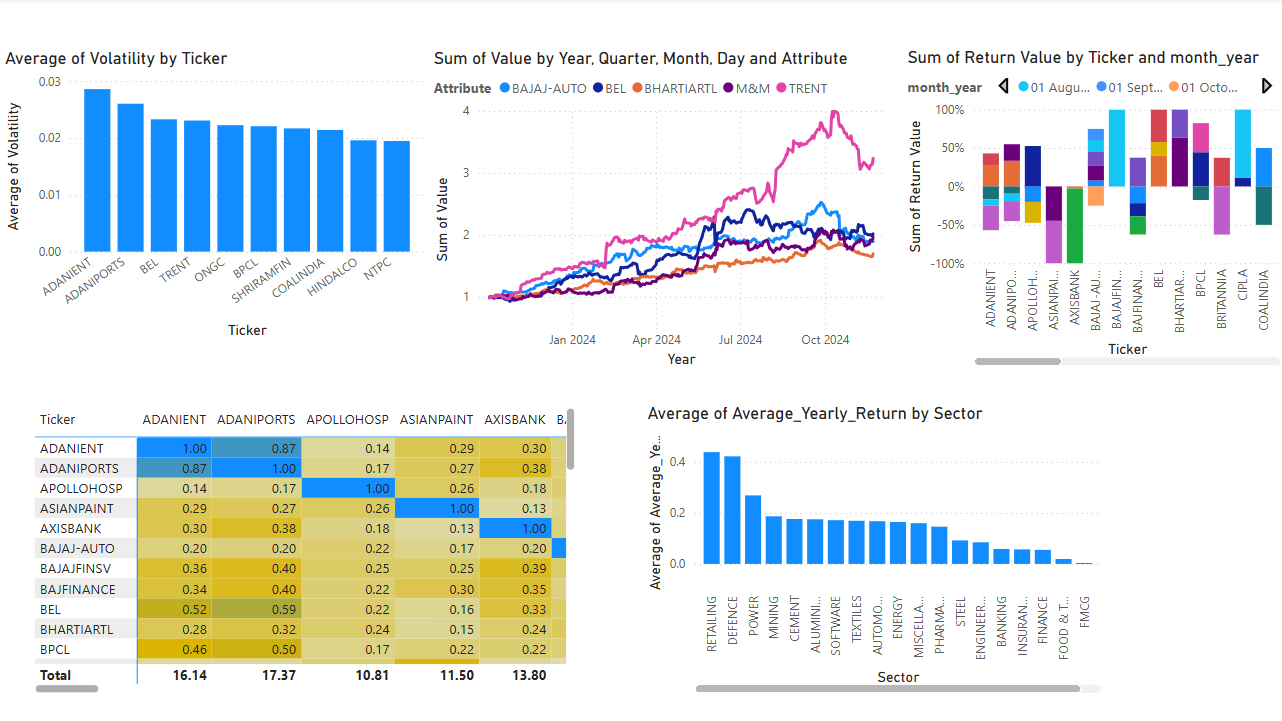

What the dashboard file says about the page in this screenshot:
{"tool":"powerbi","page":{"name":"Page 1","canvas":[1280,720],"ordinal":0},"visuals":[{"type":"lineChart","fields":{"Y":["Sum(top_5_stocks_cumulative.Value)"],"Category":["top_5_stocks_cumulative.date.Variation.Date Hierarchy.Year","top_5_stocks_cumulative.date.Variation.Date Hierarchy.Quarter","top_5_stocks_cumulative.date.Variation.Date Hierarchy.Month","top_5_stocks_cumulative.date.Variation.Date Hierarchy.Day"],"Series":["top_5_stocks_cumulative.Attribute"]},"box":[426.7,49.8,471.5,322.2],"z":0},{"type":"clusteredColumnChart","fields":{"Category":["Top_10_Volatile_Stocks.Ticker"],"Y":["Avg(Top_10_Volatile_Stocks.Volatility)"]},"box":[0,49.4,426.8,293.7],"z":1000},{"type":"clusteredColumnChart","fields":{"Category":["sector_average_yearly_returns.Sector"],"Y":["Avg(sector_average_yearly_returns.Average_Yearly_Return)"]},"box":[639.4,403,461.5,293.6],"z":3000},{"type":"pivotTable","fields":{"Rows":["stock_correlation_matrix.Ticker"],"Columns":["stock_correlation_matrix.Attribute"],"Values":["Sum(stock_correlation_matrix.Value)"]},"box":[30.2,403.4,547.5,293.7],"z":3001},{"type":"hundredPercentStackedColumnChart","fields":{"Series":["Top_monthly_gainers_losers.month_year"],"Category":["Top_monthly_gainers_losers.Ticker"],"Y":["Sum(Top_monthly_gainers_losers.Return Value)"]},"box":[898.1,48.5,381.9,322.2],"z":3002}]}

Visuals, with their boxes in screenshot pixels (x1, y1, x2, y2), scaled from the page's 1280x720 canvas onto the 1282x721 screenshot:
lineChart - Sum(top_5_stocks_cumulative.Value) x top_5_stocks_cumulative.date.Variation.Date Hierarchy.Year: box=[427, 50, 900, 373]
clusteredColumnChart - Top_10_Volatile_Stocks.Ticker x Avg(Top_10_Volatile_Stocks.Volatility): box=[0, 49, 427, 344]
clusteredColumnChart - sector_average_yearly_returns.Sector x Avg(sector_average_yearly_returns.Average_Yearly_Return): box=[640, 404, 1103, 698]
pivotTable - stock_correlation_matrix.Ticker x stock_correlation_matrix.Attribute: box=[30, 404, 579, 698]
hundredPercentStackedColumnChart - Top_monthly_gainers_losers.month_year x Top_monthly_gainers_losers.Ticker: box=[900, 49, 1281, 371]
